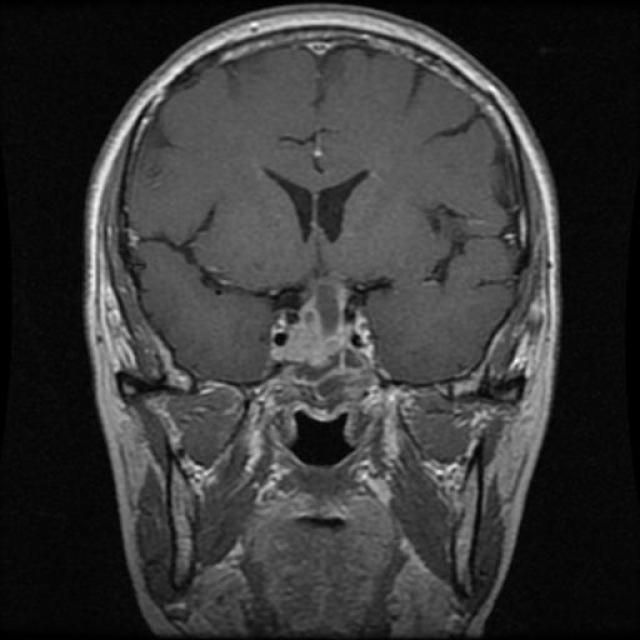pituitary: (268, 274, 379, 376)
